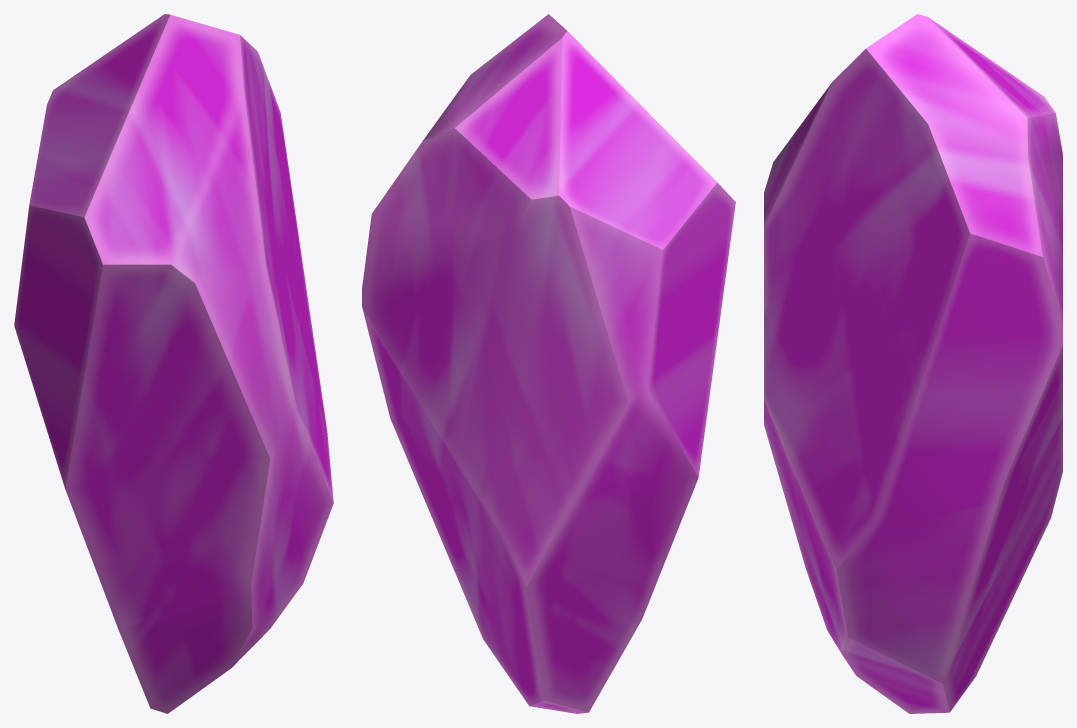
Rendered from CrystalPiece002.fbx.
The picture shows the model from 3 angles, left to right: view 1: azimuth 30°, elevation 25°; view 2: azimuth 150°, elevation 25°; view 3: azimuth 270°, elevation 25°; orthographic projection. The views are drawn at different scales.
Parts seen in each view (by area): view 1: crystalpurple1; view 2: crystalpurple1; view 3: crystalpurple1.
Part boxes in pixels (x1,y1,x2,y2): crystalpurple1: (14,14,333,713); crystalpurple1: (362,14,735,713); crystalpurple1: (764,14,1062,713).
Bounding box in the file's own units: 4.47 × 11.6 × 4.47.
1 material, 1 textured.
